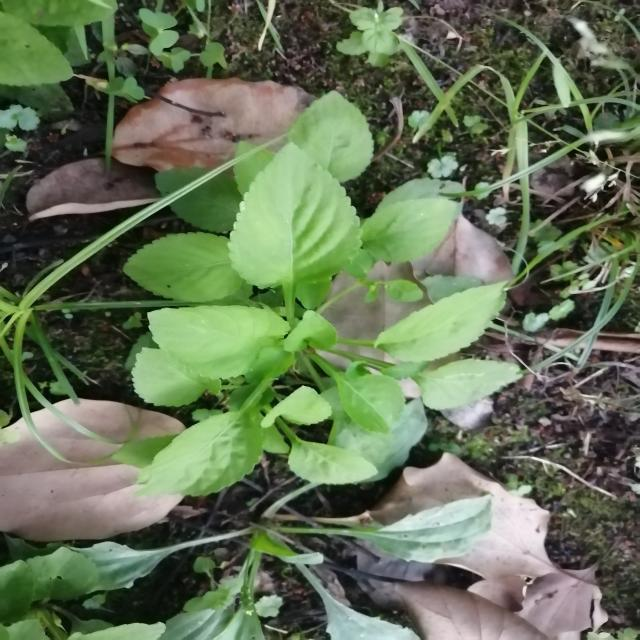Viola: (146, 157, 562, 479)
